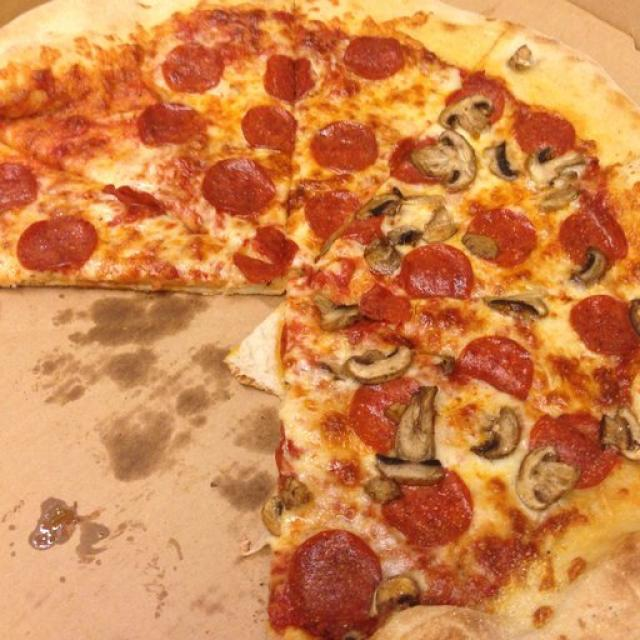Mushrooms: (368, 200, 446, 267), (521, 448, 574, 512), (530, 150, 584, 208), (417, 136, 471, 189), (403, 389, 435, 458), (477, 413, 520, 460), (310, 286, 352, 328), (350, 352, 414, 378), (604, 411, 640, 456), (377, 459, 441, 484), (486, 290, 546, 316), (374, 574, 418, 604), (441, 98, 488, 125), (568, 256, 610, 285), (488, 145, 517, 177)
Pepperoni: (290, 532, 374, 621), (389, 485, 485, 546), (534, 409, 606, 472), (458, 336, 530, 398), (17, 218, 94, 271), (402, 243, 471, 302), (353, 380, 403, 455), (207, 159, 274, 214), (570, 304, 632, 357), (0, 68, 70, 114), (471, 208, 534, 258), (100, 178, 168, 222), (236, 231, 293, 278), (318, 121, 378, 165), (345, 35, 403, 80), (140, 104, 207, 141), (567, 203, 616, 251), (164, 47, 220, 88), (518, 106, 572, 148), (303, 192, 353, 236), (248, 104, 293, 148), (0, 159, 38, 209), (267, 56, 312, 98), (358, 288, 407, 317), (449, 80, 500, 98), (394, 142, 412, 186), (361, 222, 384, 243)
Pizza: (0, 0, 640, 640)
